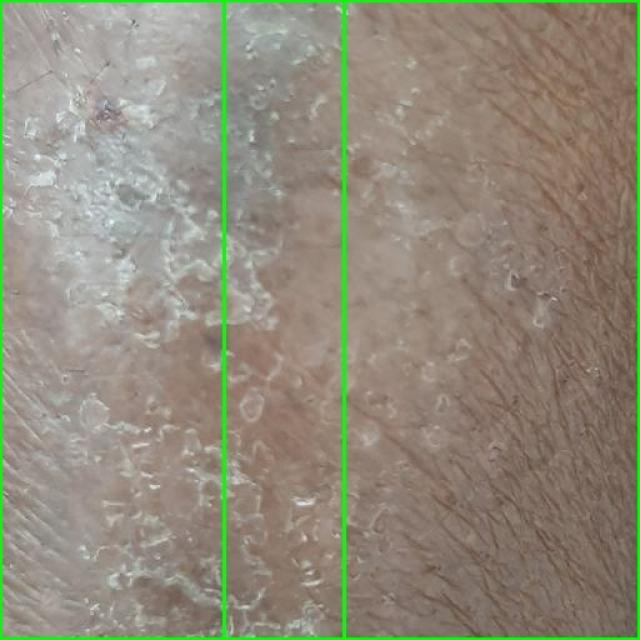Eczema: (224, 0, 639, 639), (0, 0, 344, 639)
